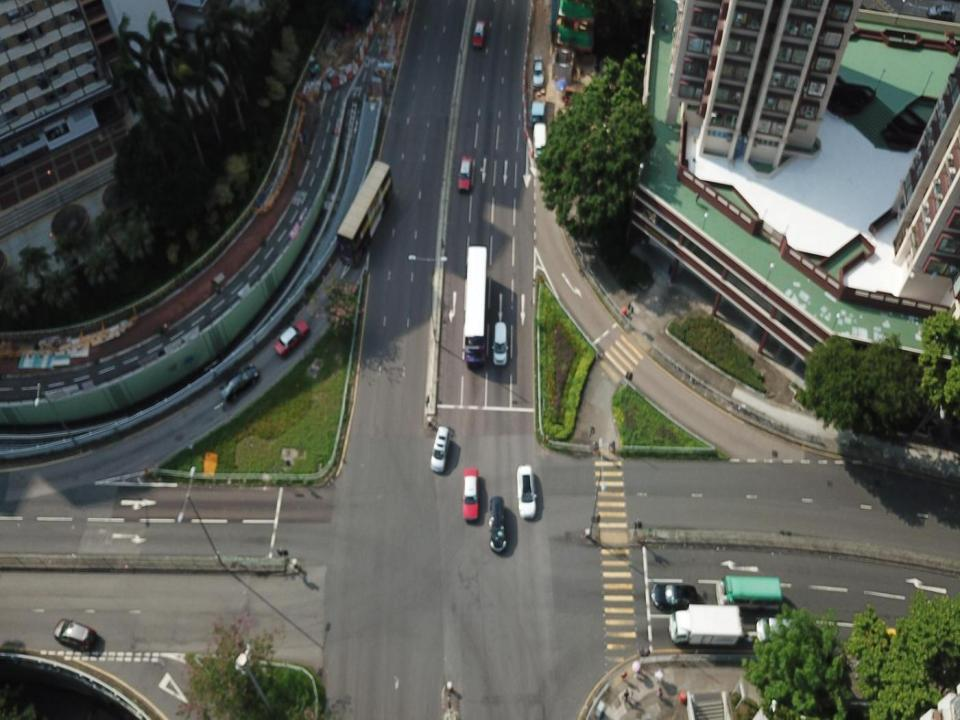bus: (336, 160, 394, 268), (464, 245, 488, 364), (715, 575, 782, 616), (532, 121, 548, 168)
car: (219, 362, 260, 403), (755, 615, 806, 645), (650, 581, 699, 612), (53, 618, 97, 652), (274, 317, 309, 357), (517, 463, 537, 520), (489, 495, 508, 555), (430, 425, 450, 474), (462, 467, 478, 522), (457, 153, 473, 192), (471, 16, 486, 50), (531, 54, 545, 88)
truck: (669, 604, 743, 646)
van: (492, 321, 508, 367)
